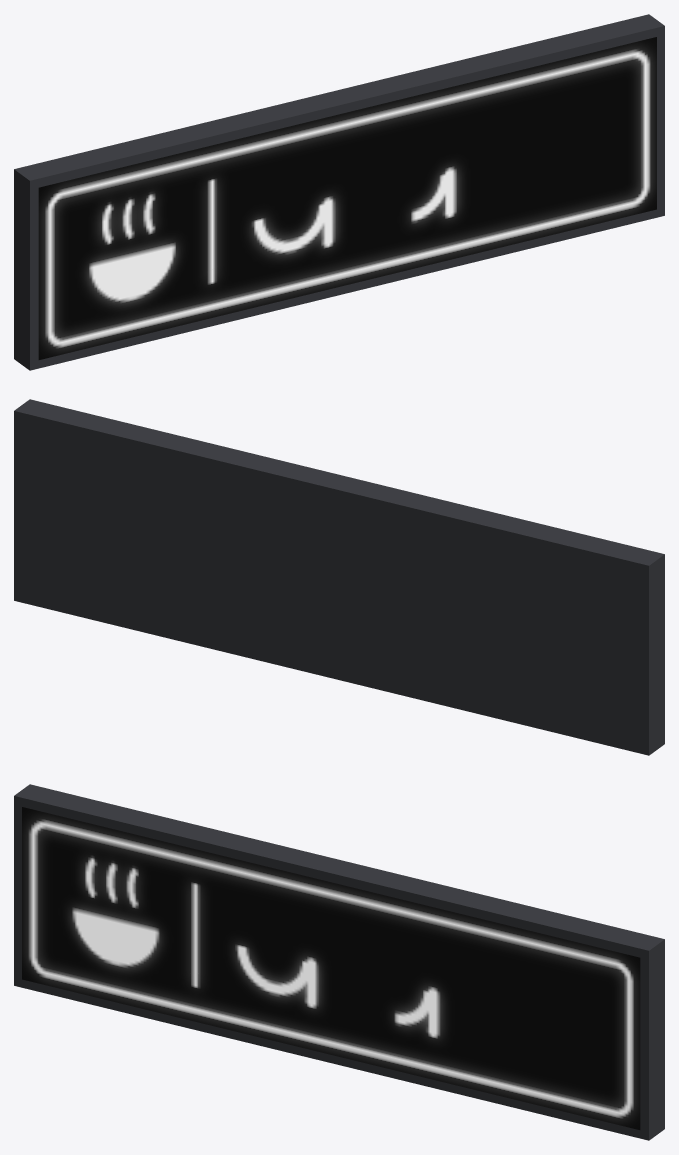
The model's file is sign_fascia_0.gltf.
3 views of the same model, one above another, from view 1: azimuth 30°, elevation 25°; view 2: azimuth 150°, elevation 25°; view 3: azimuth 330°, elevation 25° (orthographic).
Visible parts, largest first — view 1: sign_fascia_0; view 2: sign_fascia_0; view 3: sign_fascia_0.
Part boxes in pixels (x1=…): sign_fascia_0: x1=14, y1=14, x2=664, y2=370; sign_fascia_0: x1=14, y1=399, x2=664, y2=755; sign_fascia_0: x1=14, y1=784, x2=664, y2=1140.
Bounding box in the file's own units: 4.62 × 1.32 × 0.205.
2 materials, 1 textured.
